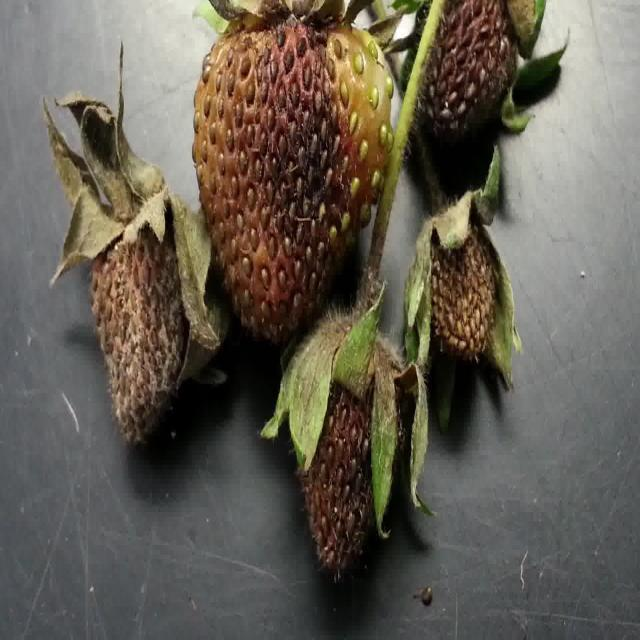Podredumbre de cuero: (196, 26, 406, 330), (66, 148, 216, 460), (282, 336, 417, 604), (400, 0, 544, 140), (414, 184, 506, 392)
